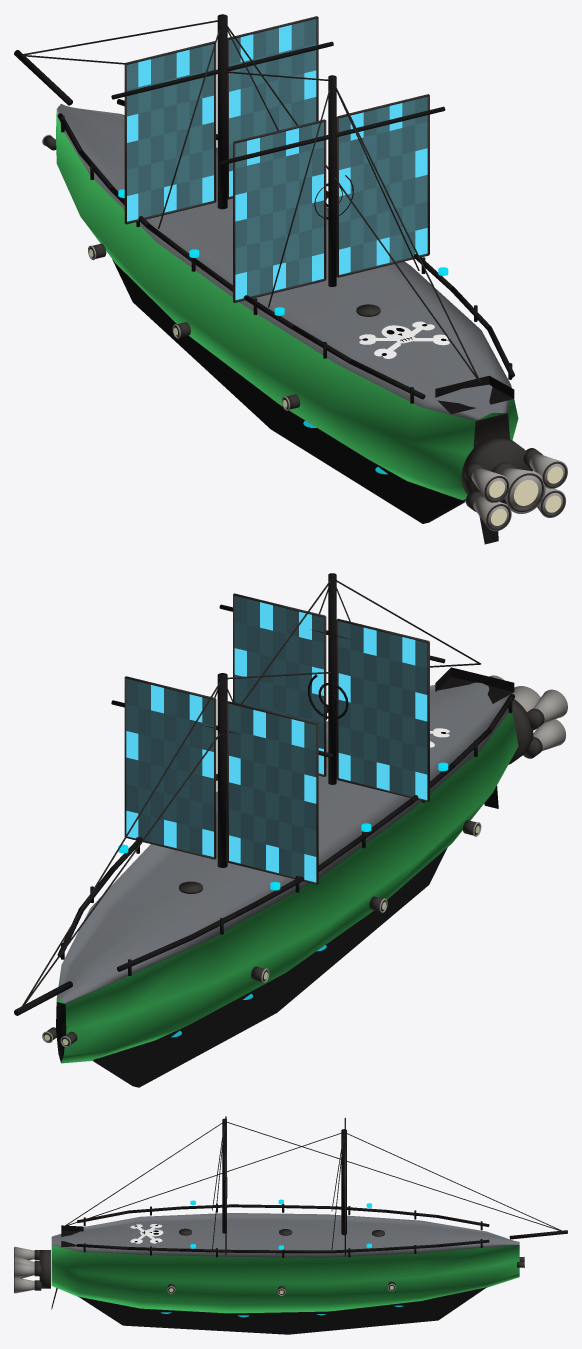
The model's file is Ship_Pirate_940914.glb.
3 renders of one model, top to bottom at view 1: azimuth 30°, elevation 25°; view 2: azimuth 150°, elevation 25°; view 3: azimuth 270°, elevation 25°, orthographic. The views are drawn at different scales.
Parts seen in each view (by area): view 1: Hull_MetalSailingShipBody, SolarPanelSail_Main_01_RigidHeritageArray, SolarPanelSail_Fore_01_RigidHeritageArray, Keel_DeepSpaceSailingKeel, Mast_Fore_DarkMetalHeritageSpar, Mast_Main_DarkMetalHeritageSpar, EngineDeck_AftTransomArmoredMount, EngineEmitter, SternTransom_LowReinforcedAftDeckCap, Yard_Main_01_SolarPanelCrossSpar, Yard_Fore_01_SolarPanelCrossSpar, EngineBell_Center_IronRocketNozzle (+2 smaller); view 2: Hull_MetalSailingShipBody, SolarPanelSail_Fore_01_RigidHeritageArray, SolarPanelSail_Main_01_RigidHeritageArray, Keel_DeepSpaceSailingKeel, Mast_Fore_DarkMetalHeritageSpar, Mast_Main_DarkMetalHeritageSpar, SternTransom_LowReinforcedAftDeckCap, RiggingStay_Main_ForwardTautLine, RiggingStay_Fore_ForwardTautLine, EngineDeck_AftTransomArmoredMount, EngineBell_PortUpper_IronRocketNozzle, EngineBell_PortLower_IronRocketNozzle; view 3: Hull_MetalSailingShipBody, Keel_DeepSpaceSailingKeel, RiggingStay_Main_ForwardTautLine, Mast_Main_DarkMetalHeritageSpar, Mast_Fore_DarkMetalHeritageSpar, EngineDeck_AftTransomArmoredMount, RiggingStay_Fore_AftTautLine, RiggingStay_Fore_ForwardTautLine.
Part boxes in pixels (left/top/right/bottom): Hull_MetalSailingShipBody: left=56, top=104, right=518, bottom=501; SolarPanelSail_Main_01_RigidHeritageArray: left=235, top=97, right=427, bottom=300; SolarPanelSail_Fore_01_RigidHeritageArray: left=127, top=19, right=316, bottom=221; Keel_DeepSpaceSailingKeel: left=112, top=259, right=465, bottom=523; Mast_Fore_DarkMetalHeritageSpar: left=217, top=14, right=227, bottom=209; Mast_Main_DarkMetalHeritageSpar: left=328, top=75, right=336, bottom=286; EngineDeck_AftTransomArmoredMount: left=461, top=436, right=533, bottom=504; EngineEmitter: left=489, top=466, right=563, bottom=525; SternTransom_LowReinforcedAftDeckCap: left=435, top=375, right=514, bottom=414; Yard_Main_01_SolarPanelCrossSpar: left=219, top=106, right=445, bottom=165; Yard_Fore_01_SolarPanelCrossSpar: left=111, top=41, right=333, bottom=99; EngineBell_Center_IronRocketNozzle: left=499, top=468, right=545, bottom=513; Hull_MetalSailingShipBody: left=56, top=682, right=518, bottom=1063; SolarPanelSail_Fore_01_RigidHeritageArray: left=126, top=679, right=316, bottom=882; SolarPanelSail_Main_01_RigidHeritageArray: left=234, top=596, right=427, bottom=799; Keel_DeepSpaceSailingKeel: left=92, top=847, right=447, bottom=1087; Mast_Fore_DarkMetalHeritageSpar: left=217, top=673, right=227, bottom=867; Mast_Main_DarkMetalHeritageSpar: left=328, top=573, right=336, bottom=784; SternTransom_LowReinforcedAftDeckCap: left=435, top=667, right=514, bottom=703; RiggingStay_Main_ForwardTautLine: left=23, top=580, right=330, bottom=1006; RiggingStay_Fore_ForwardTautLine: left=21, top=682, right=220, bottom=1007; EngineDeck_AftTransomArmoredMount: left=508, top=699, right=533, bottom=764; EngineBell_PortUpper_IronRocketNozzle: left=533, top=689, right=567, bottom=722; EngineBell_PortLower_IronRocketNozzle: left=533, top=719, right=565, bottom=750; Hull_MetalSailingShipBody: left=51, top=1213, right=519, bottom=1313; Keel_DeepSpaceSailingKeel: left=78, top=1287, right=486, bottom=1334; RiggingStay_Main_ForwardTautLine: left=227, top=1122, right=560, bottom=1231; Mast_Main_DarkMetalHeritageSpar: left=222, top=1118, right=226, bottom=1233; Mast_Fore_DarkMetalHeritageSpar: left=341, top=1129, right=346, bottom=1235; EngineDeck_AftTransomArmoredMount: left=39, top=1250, right=50, bottom=1288; RiggingStay_Fore_AftTautLine: left=64, top=1133, right=341, bottom=1226; RiggingStay_Fore_ForwardTautLine: left=347, top=1133, right=562, bottom=1230.
Bounding box in the file's own units: 1.97 × 3.32 × 7.78.
